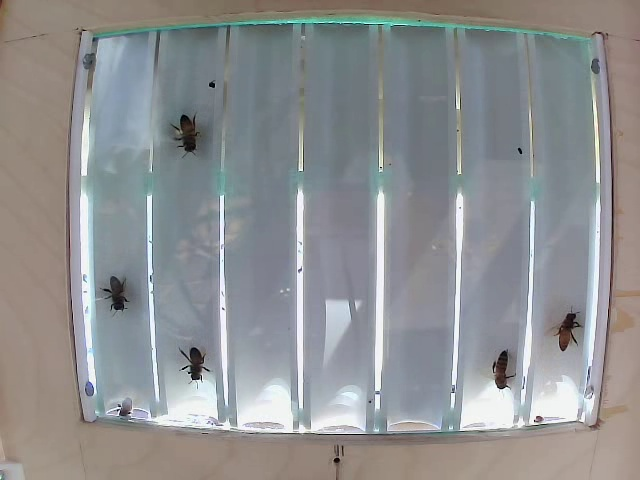bee: (159, 101, 205, 155), (176, 331, 217, 386), (479, 342, 523, 392), (92, 270, 132, 320), (559, 299, 579, 351)
